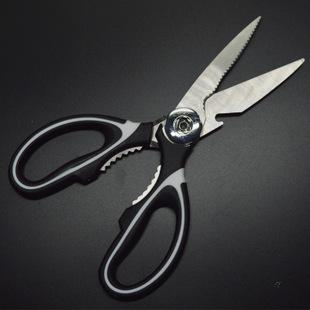scissor: (15, 11, 274, 301)
